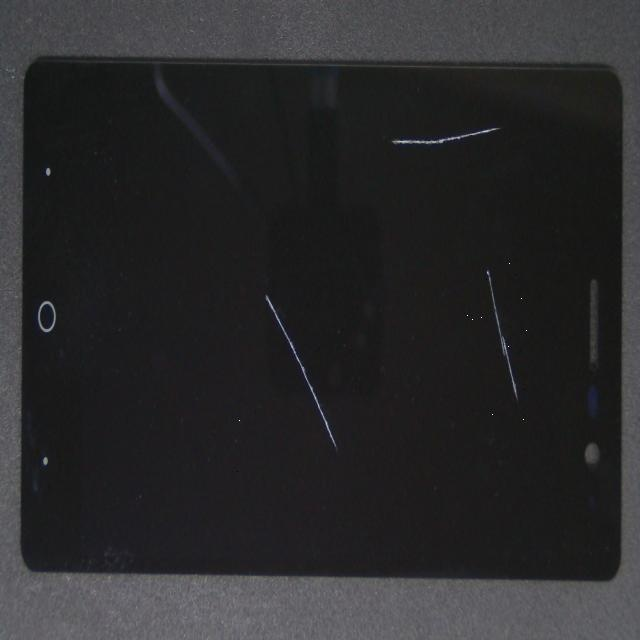scratch: (234, 139, 640, 457), (118, 148, 355, 444), (286, 68, 640, 189)
